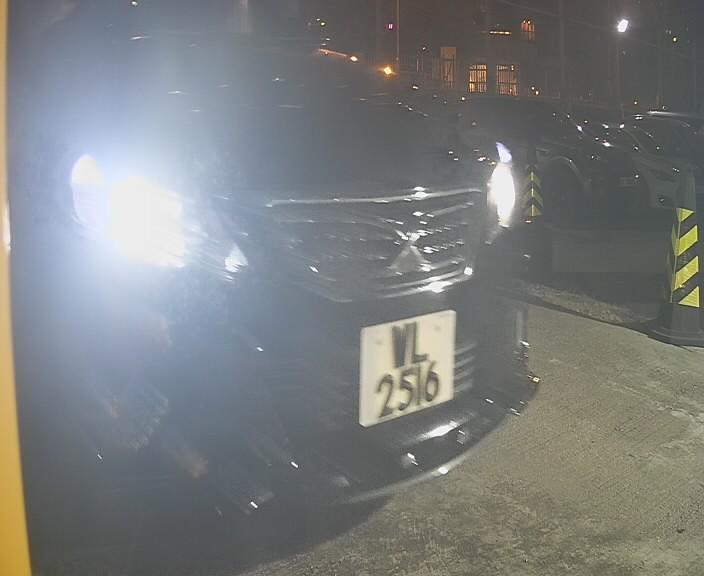Car: (1, 16, 576, 556)
License Plate: (349, 306, 469, 435)
